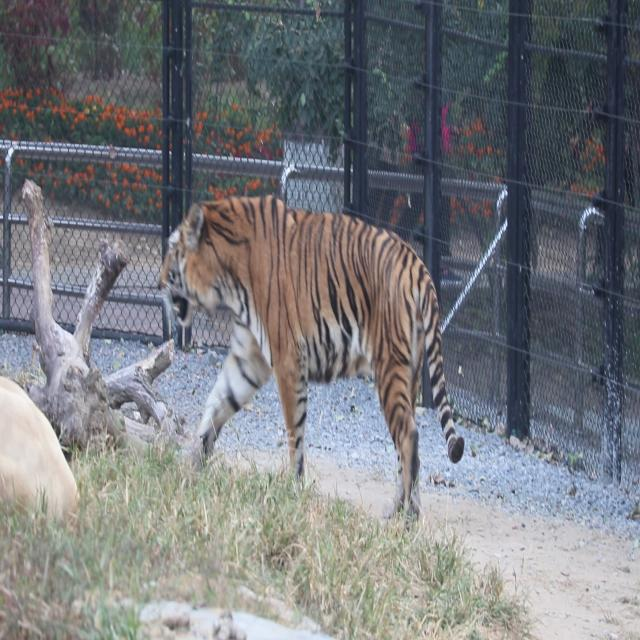Tiger: (151, 148, 473, 544)
